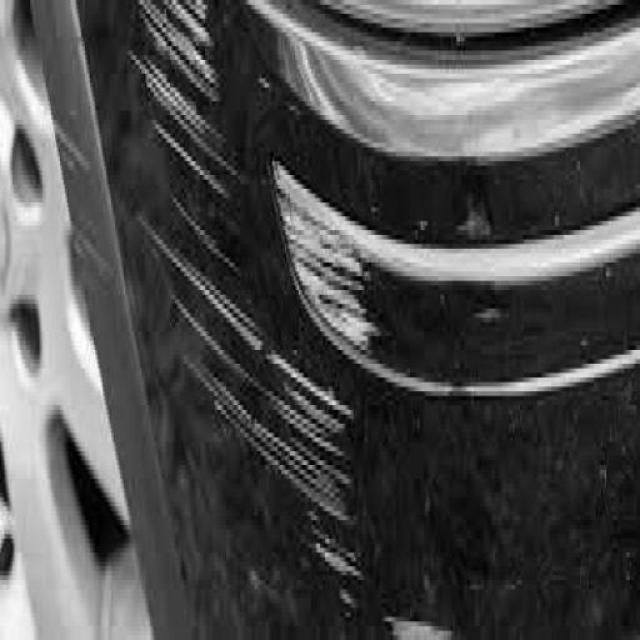scratch: (133, 5, 364, 622), (272, 166, 375, 359)
